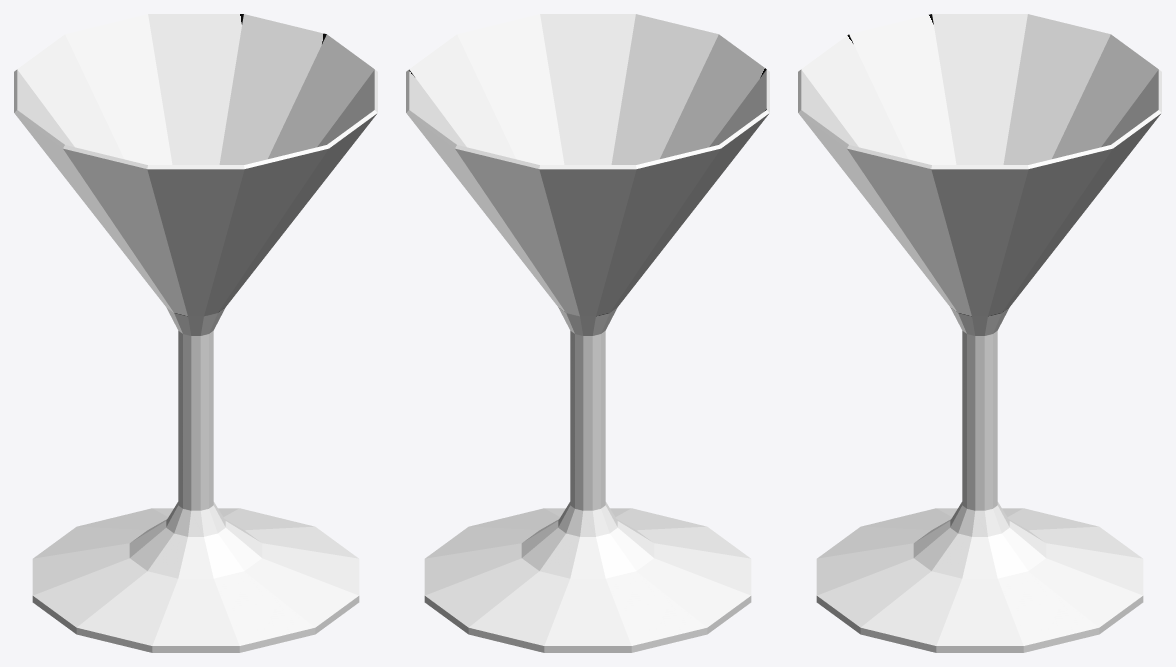
File: martini_empty.obj
3 renders of one model, left to right at view 1: azimuth 30°, elevation 25°; view 2: azimuth 150°, elevation 25°; view 3: azimuth 270°, elevation 25°, orthographic.
Parts seen in each view (by area): view 1: martini; view 2: martini; view 3: martini.
Boxes of the visible parts, x1,y1,x2,y2 form: martini: (14,14,377,652); martini: (406,14,769,652); martini: (798,14,1161,652).
Bounding box in the file's own units: 0.375 × 0.5625 × 0.375.
Materials: 1 (1 with a texture image).
